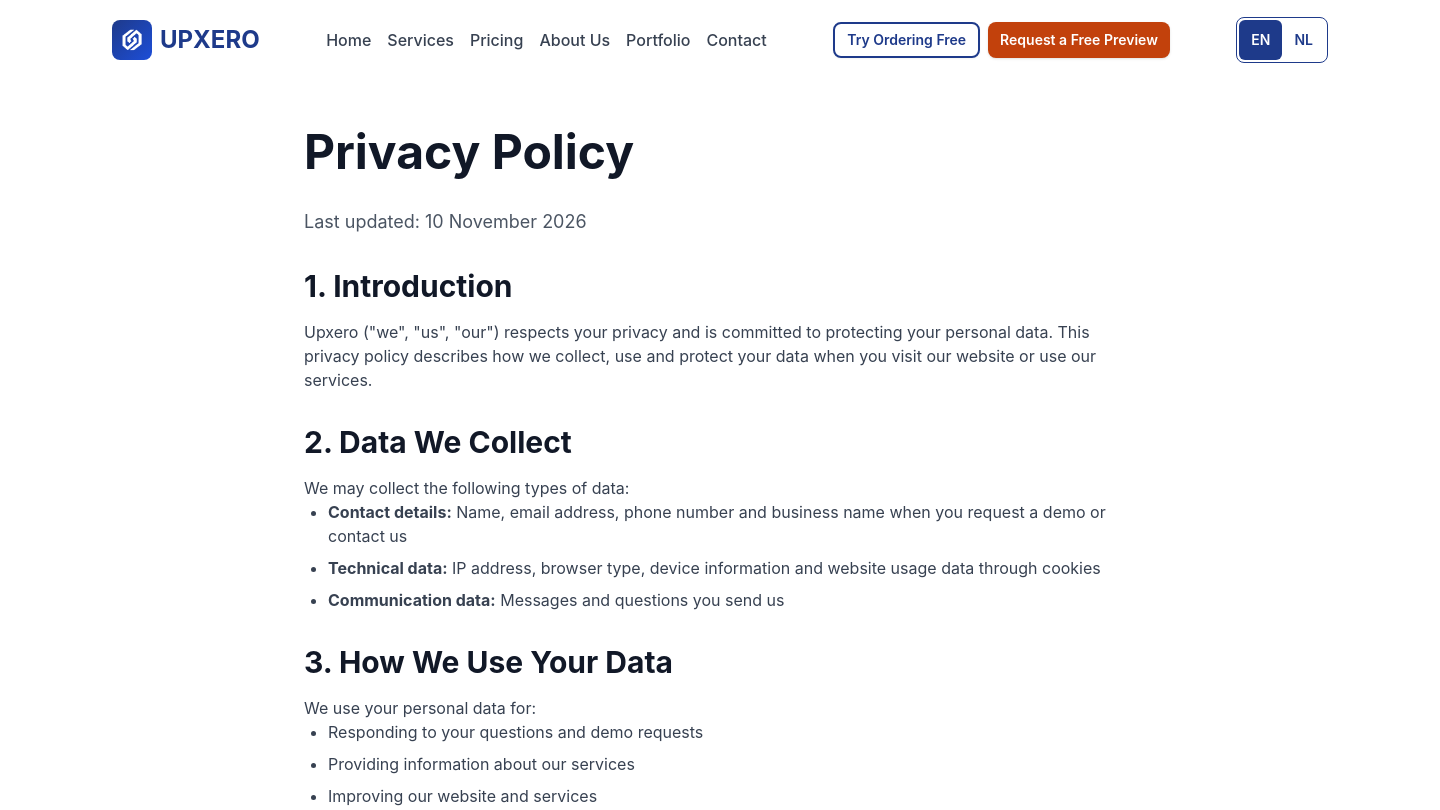
it: privacy renders and switches both language URLs without missing keys
Click the button "NL": click(1304, 40) [1282,20,1325,60]
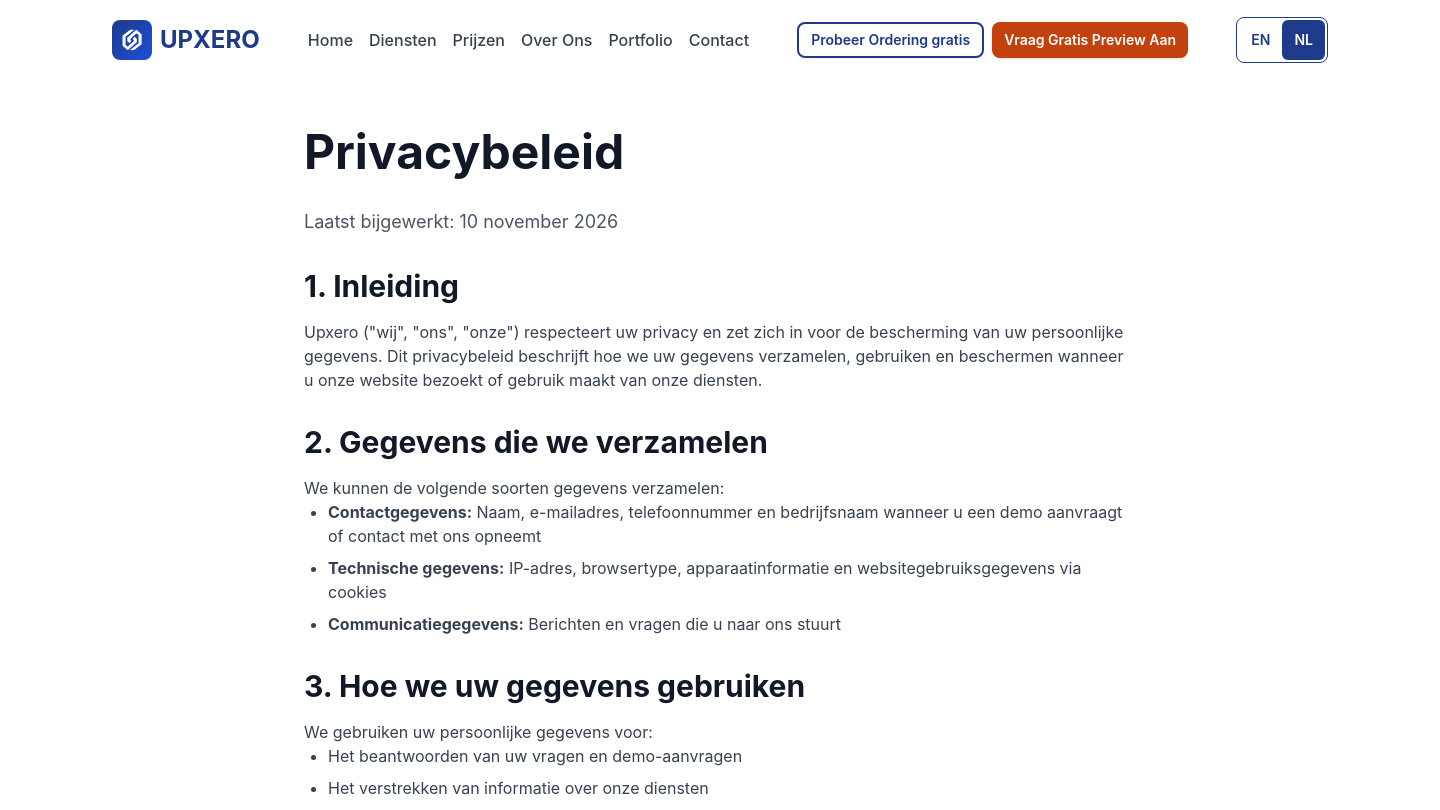
Now the heading "Privacybeleid" is shown, box [304,122,624,181]
Click the button "EN": click(1261, 40) [1239,20,1282,60]
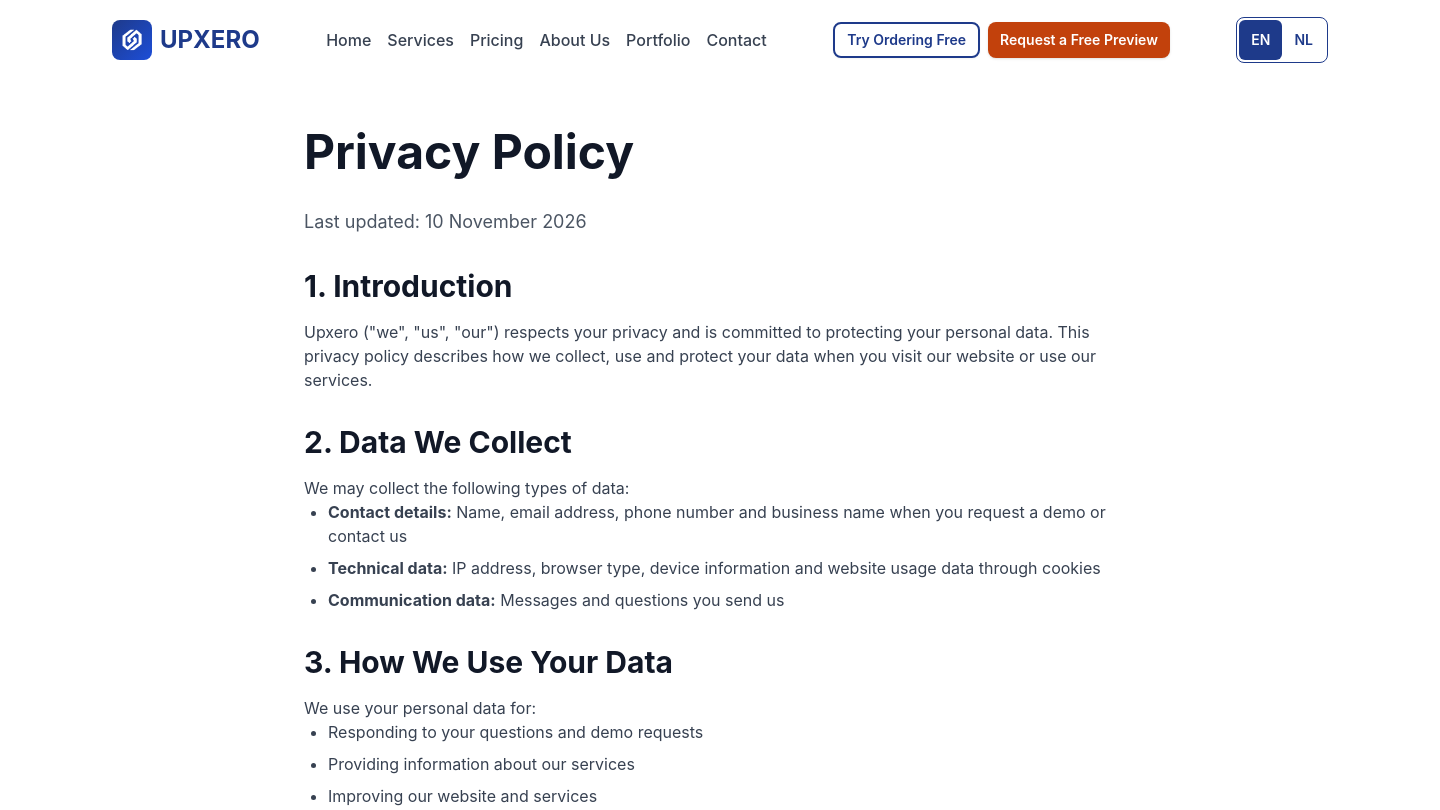
Now the heading "Privacy Policy" is shown, box [304,122,634,181]
